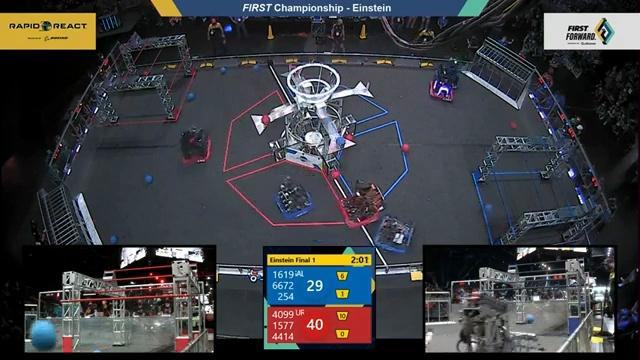robot: (335, 177, 385, 228), (268, 177, 318, 225), (371, 212, 416, 258), (174, 122, 215, 169), (432, 53, 466, 88), (426, 71, 455, 105)
